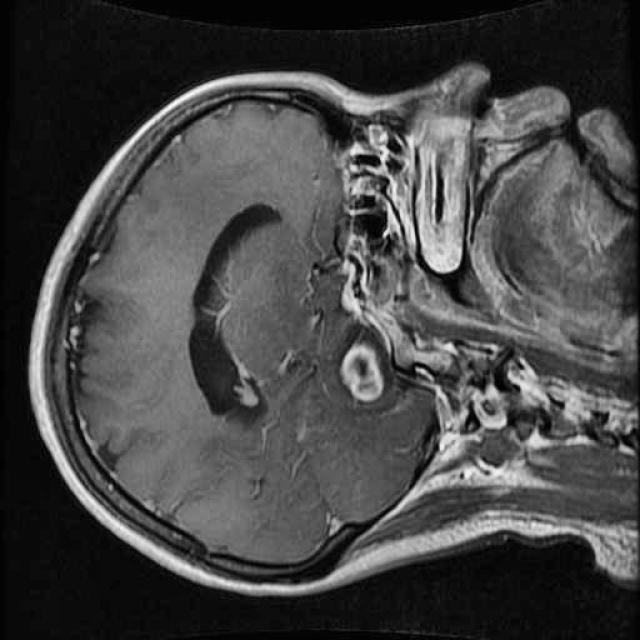Tumor: (324, 322, 408, 418)
